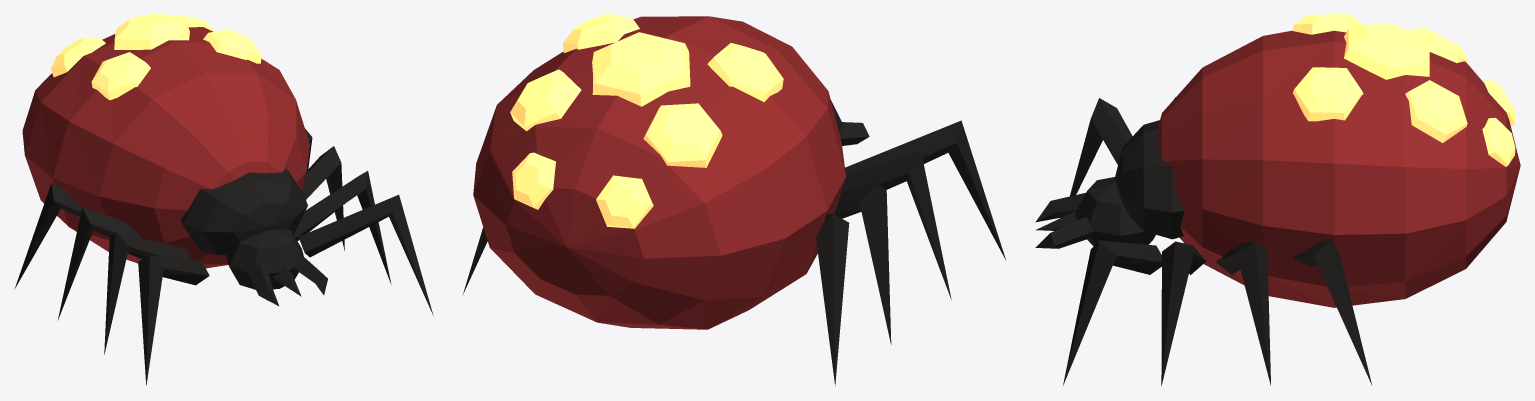
The model's file is BombTick.fbx.
3 views of the same model, side by side, from view 1: azimuth 30°, elevation 25°; view 2: azimuth 150°, elevation 25°; view 3: azimuth 270°, elevation 25° (orthographic). The views are drawn at different scales.
Visible parts, largest first — view 1: Abdomen, Body, LegsR, LegsL, Spots; view 2: Abdomen, Spots, LegsR, Body; view 3: Abdomen, Spots, LegsL, Body, LegsR.
Part boxes in pixels (x1=…): Abdomen: x1=22, y1=27, x2=309, y2=268; Body: x1=181, y1=168, x2=327, y2=305; LegsR: x1=14, y1=183, x2=209, y2=385; LegsL: x1=294, y1=128, x2=433, y2=315; Spots: x1=51, y1=14, x2=261, y2=100; Abdomen: x1=473, y1=16, x2=845, y2=329; Spots: x1=510, y1=14, x2=783, y2=228; LegsR: x1=816, y1=120, x2=1006, y2=385; Body: x1=831, y1=100, x2=869, y2=145; Abdomen: x1=1158, y1=30, x2=1520, y2=307; Spots: x1=1292, y1=14, x2=1515, y2=166; LegsL: x1=1063, y1=240, x2=1372, y2=386; Body: x1=1035, y1=120, x2=1184, y2=248; LegsR: x1=1070, y1=97, x2=1175, y2=196.
Size of the model in its own units: 2.84 by 2.2 by 3.54.
